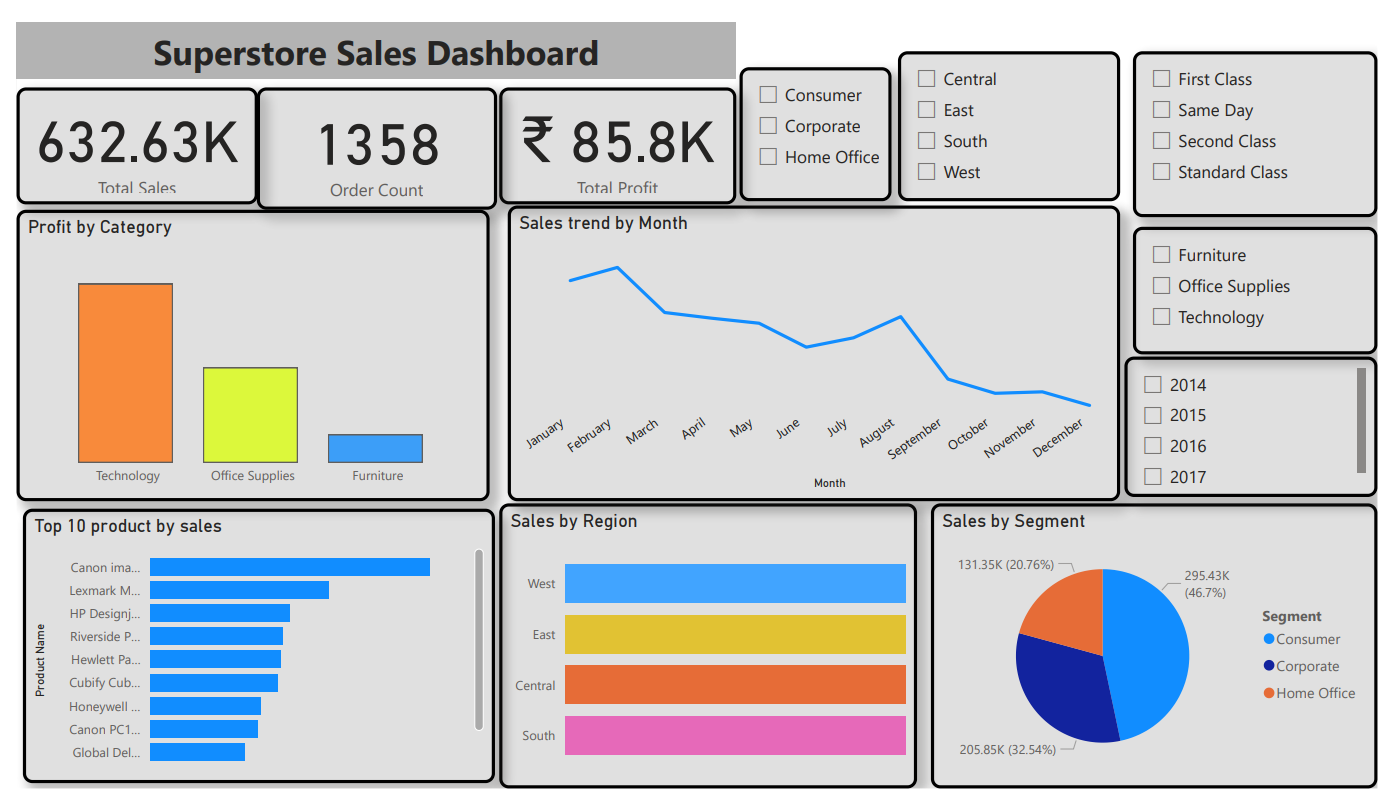

This screenshot's page, from the dashboard's own definition file:
{"tool":"powerbi","page":{"name":"Page 1","canvas":[1280,720],"ordinal":0},"visuals":[{"type":"card","fields":{"Values":["Sum(Sample - Superstore.Sales)"]},"box":[0,61.1,227.4,110.1],"z":0},{"type":"card","fields":{"Values":["Sum(Sample - Superstore.Profit)"]},"box":[453.7,61.1,223.8,110.1],"z":1000},{"type":"card","fields":{"Values":["Count(Sample - Superstore.Order ID)"]},"box":[226.2,61.1,226.2,114.9],"z":2000},{"type":"hundredPercentStackedBarChart","fields":{"Category":["Sample - Superstore.Region"],"Y":["Sum(Sample - Superstore.Sales)"]},"box":[453.7,452.4,393.8,267.8],"z":3000},{"type":"clusteredColumnChart","fields":{"Category":["Sample - Superstore.Category"],"Y":["Sum(Sample - Superstore.Profit)"]},"box":[0,176.1,445.1,273.9],"z":4000},{"type":"lineChart","fields":{"Y":["Sum(Sample - Superstore.Sales)"],"Category":["Sample - Superstore.Order Date.Variation.Date Hierarchy.Month"]},"box":[462.2,172.4,576,277.6],"z":5000},{"type":"clusteredBarChart","title":"Top 10 product by sales","fields":{"Y":["Sum(Sample - Superstore.Sales)"],"Category":["Sample - Superstore.Product Name"]},"box":[6.1,457.3,443.9,258],"z":6000},{"type":"pieChart","fields":{"Category":["Sample - Superstore.Segment"],"Y":["Sum(Sample - Superstore.Sales)"]},"box":[859.7,452.4,420.7,267.8],"z":7000},{"type":"slicer","fields":{"Values":["Sample - Superstore.Region"]},"box":[829.1,26.9,209.1,140.6],"z":8000},{"type":"slicer","fields":{"Values":["Sample - Superstore.Segment"]},"box":[679.9,41.6,143.1,126],"z":9000},{"type":"slicer","fields":{"Values":["Sample - Superstore.Ship Mode"]},"box":[1050.4,26.9,229.9,156.5],"z":10000},{"type":"slicer","fields":{"Values":["Sample - Superstore.Category"]},"box":[1050.4,192,229.9,119.8],"z":11000},{"type":"slicer","fields":{"Values":["Sample - Superstore.Order Date.Variation.Date Hierarchy.Year"]},"box":[1041.9,314.3,238.5,132.1],"z":12000},{"type":"textbox","box":[0,0,677.4,52.6],"z":13000}]}

Visuals, with their boxes in screenshot pixels (x1, y1, x2, y2), scaled from the page's 1280x720 canvas onto the 1385x801 screenshot:
card - Sum(Sample - Superstore.Sales): (left=0, top=68, right=246, bottom=190)
card - Sum(Sample - Superstore.Profit): (left=491, top=68, right=733, bottom=190)
card - Count(Sample - Superstore.Order ID): (left=245, top=68, right=490, bottom=196)
hundredPercentStackedBarChart - Sample - Superstore.Region x Sum(Sample - Superstore.Sales): (left=491, top=503, right=917, bottom=800)
clusteredColumnChart - Sample - Superstore.Category x Sum(Sample - Superstore.Profit): (left=0, top=196, right=482, bottom=501)
lineChart - Sum(Sample - Superstore.Sales) x Sample - Superstore.Order Date.Variation.Date Hierarchy.Month: (left=500, top=192, right=1123, bottom=501)
"Top 10 product by sales" clusteredBarChart: (left=7, top=509, right=487, bottom=796)
pieChart - Sample - Superstore.Segment x Sum(Sample - Superstore.Sales): (left=930, top=503, right=1384, bottom=800)
slicer - Sample - Superstore.Region: (left=897, top=30, right=1123, bottom=186)
slicer - Sample - Superstore.Segment: (left=736, top=46, right=891, bottom=186)
slicer - Sample - Superstore.Ship Mode: (left=1137, top=30, right=1384, bottom=204)
slicer - Sample - Superstore.Category: (left=1137, top=214, right=1384, bottom=347)
slicer - Sample - Superstore.Order Date.Variation.Date Hierarchy.Year: (left=1127, top=350, right=1384, bottom=497)
textbox: (left=0, top=0, right=733, bottom=59)
